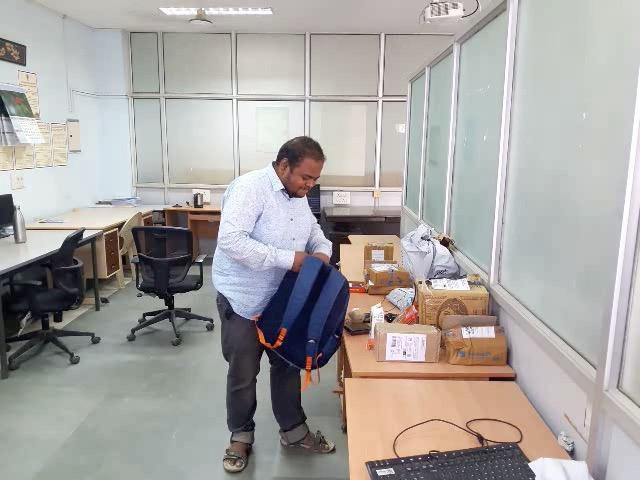shoplifting: (201, 199, 395, 404)
